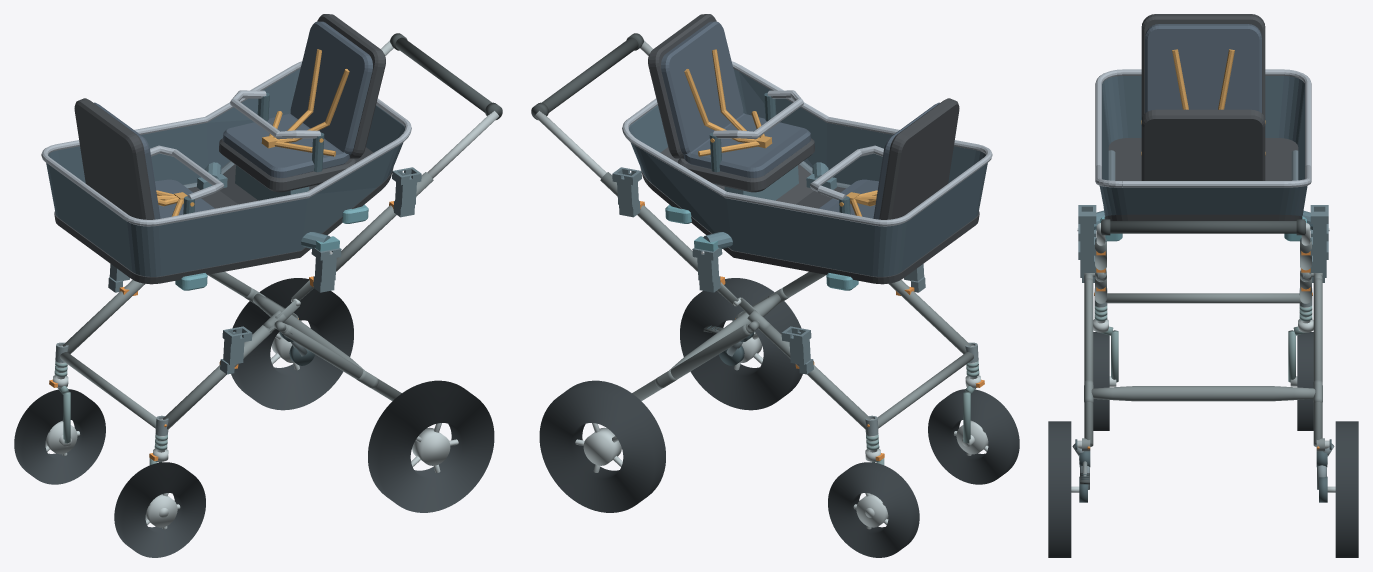
The model's file is S11_w650_state1_wheel_L.glb.
3 views of the same model, side by side, from view 1: azimuth 30°, elevation 25°; view 2: azimuth 150°, elevation 25°; view 3: azimuth 270°, elevation 25° (orthographic). The views are drawn at different scales.
Visible parts, largest first — view 1: S11_Cabin, RL_tire.008, RR_tire.008, FL_tire.008, FR_tire.008, round_handle.008, V46_rear_leg_-1.009, main_lower_-1.009, main_lower_1.009, front_fixed_round_tube.008, main_upper_-1.009, Universal_Cabin_Receiver_H_-1 (+8 smaller); view 2: S11_Cabin, RR_tire.008, RL_tire.008, FR_tire.008, FL_tire.008, round_handle.008, V46_rear_leg_1.009, main_lower_1.009, main_lower_-1.009, front_fixed_round_tube.008, main_upper_1.009, Universal_Cabin_Receiver_H_1 (+8 smaller); view 3: S11_Cabin, V46_rearbar.009, RL_tire.008, RR_tire.008, round_handle.008, front_fixed_round_tube.008, FL_tire.008, FR_tire.008, V46_rear_leg_1.009, V46_rear_leg_-1.009, Universal_Cabin_Receiver_H_1, Universal_Cabin_Receiver_H_-1 (+2 smaller).
Part boxes in pixels (box(x1,y1,x2,y2)): S11_Cabin: box(41, 14, 411, 290); RL_tire.008: box(368, 380, 494, 512); RR_tire.008: box(231, 278, 353, 410); FL_tire.008: box(114, 462, 205, 557); FR_tire.008: box(14, 389, 105, 484); round_handle.008: box(395, 37, 501, 118); V46_rear_leg_-1.009: box(282, 325, 401, 400); main_lower_-1.009: box(163, 325, 274, 429); main_lower_1.009: box(62, 280, 145, 354); front_fixed_round_tube.008: box(60, 352, 156, 428); main_upper_-1.009: box(336, 172, 433, 271); Universal_Cabin_Receiver_H_-1: box(392, 167, 421, 217); S11_Cabin: box(622, 14, 992, 290); RR_tire.008: box(539, 380, 665, 512); RL_tire.008: box(680, 278, 802, 410); FR_tire.008: box(828, 462, 919, 557); FL_tire.008: box(928, 389, 1019, 484); round_handle.008: box(532, 37, 638, 118); V46_rear_leg_1.009: box(632, 325, 751, 400); main_lower_1.009: box(759, 325, 870, 429); main_lower_-1.009: box(888, 280, 971, 354); front_fixed_round_tube.008: box(877, 352, 973, 428); main_upper_1.009: box(600, 172, 697, 271); Universal_Cabin_Receiver_H_1: box(612, 167, 641, 217); S11_Cabin: box(1095, 14, 1311, 241); V46_rearbar.009: box(1091, 386, 1315, 401); RL_tire.008: box(1048, 421, 1071, 557); RR_tire.008: box(1335, 421, 1358, 557); round_handle.008: box(1101, 221, 1305, 233); front_fixed_round_tube.008: box(1105, 293, 1301, 303); FL_tire.008: box(1093, 332, 1109, 430); FR_tire.008: box(1297, 332, 1313, 430); V46_rear_leg_1.009: box(1313, 278, 1322, 446); V46_rear_leg_-1.009: box(1084, 278, 1093, 446); Universal_Cabin_Receiver_H_1: box(1310, 205, 1328, 255); Universal_Cabin_Receiver_H_-1: box(1078, 205, 1096, 255).
Bounding box in the file's own units: 1.2 × 1.27 × 0.8171.
